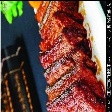hongshaodaiyu: (34, 0, 107, 112)
